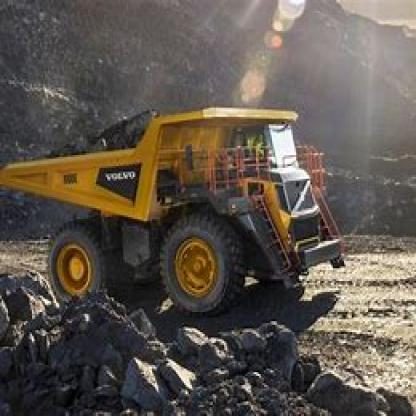dump_truck: (11, 100, 360, 325)
